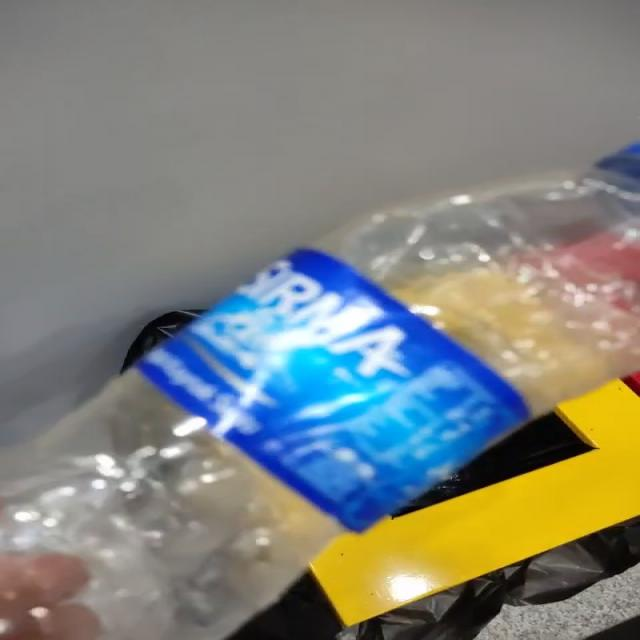plastic: (1, 148, 640, 640)
